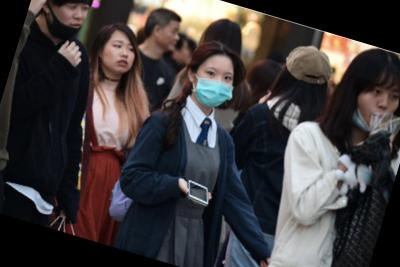mask_weared_incorrect: (349, 76, 400, 140)
with_mask: (188, 61, 241, 114)
without_mask: (98, 35, 141, 81), (158, 22, 184, 54)
